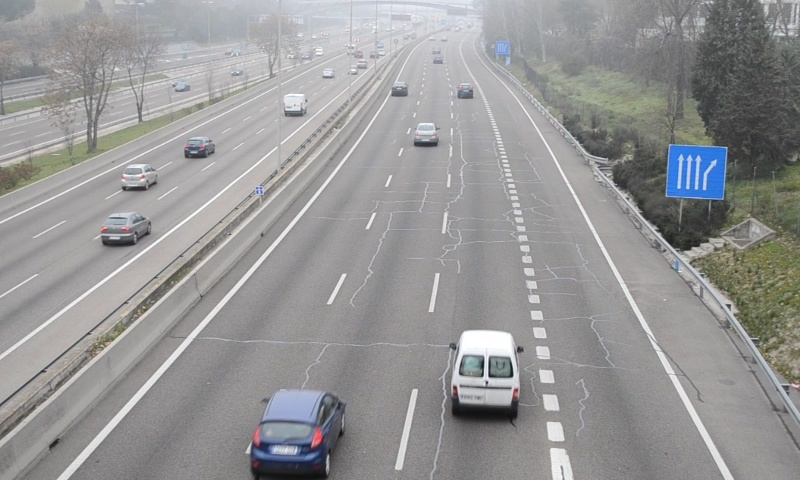car: (250, 390, 344, 476), (414, 122, 437, 144), (390, 81, 408, 98), (458, 82, 474, 98)
van: (452, 329, 520, 416)
